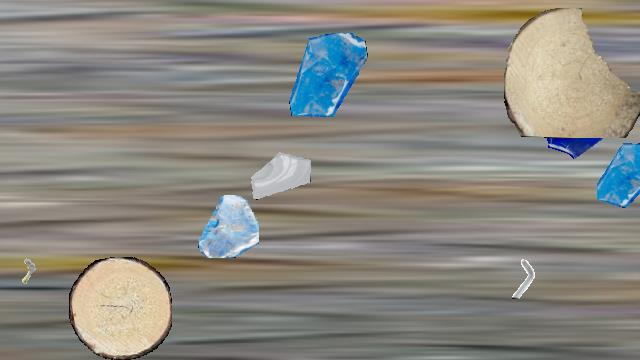glass: (286, 33, 370, 117), (536, 78, 618, 160), (196, 195, 258, 257), (250, 140, 310, 200), (597, 142, 640, 208)
metal: (502, 257, 544, 299), (6, 255, 46, 295)
wood: (504, 8, 640, 138), (69, 257, 171, 359)
